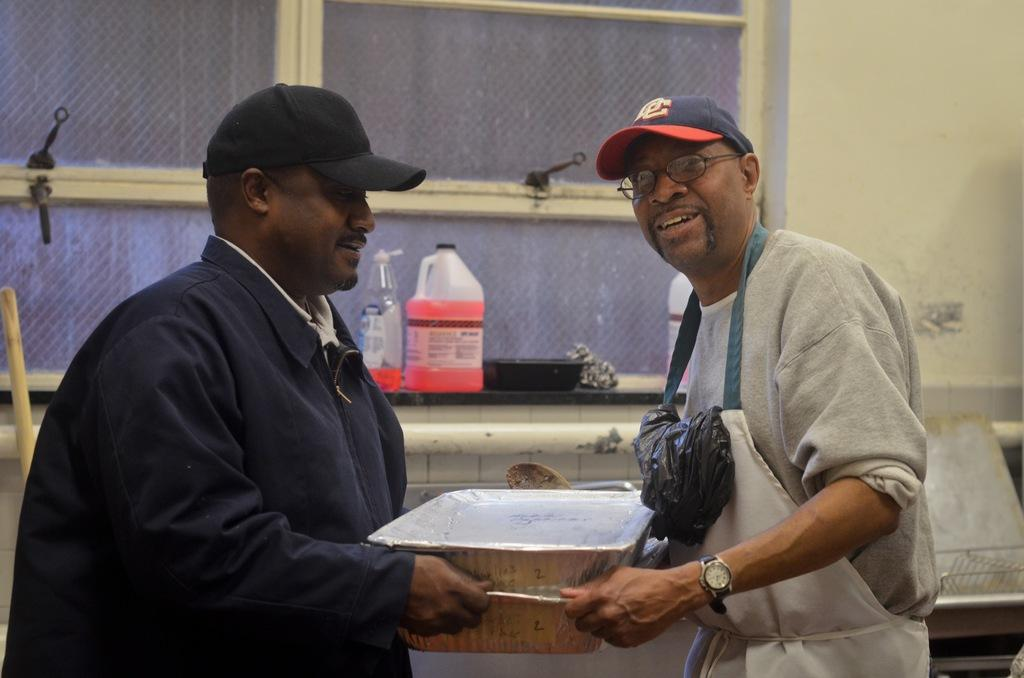Hat: (196, 81, 428, 192), (596, 96, 750, 182)
